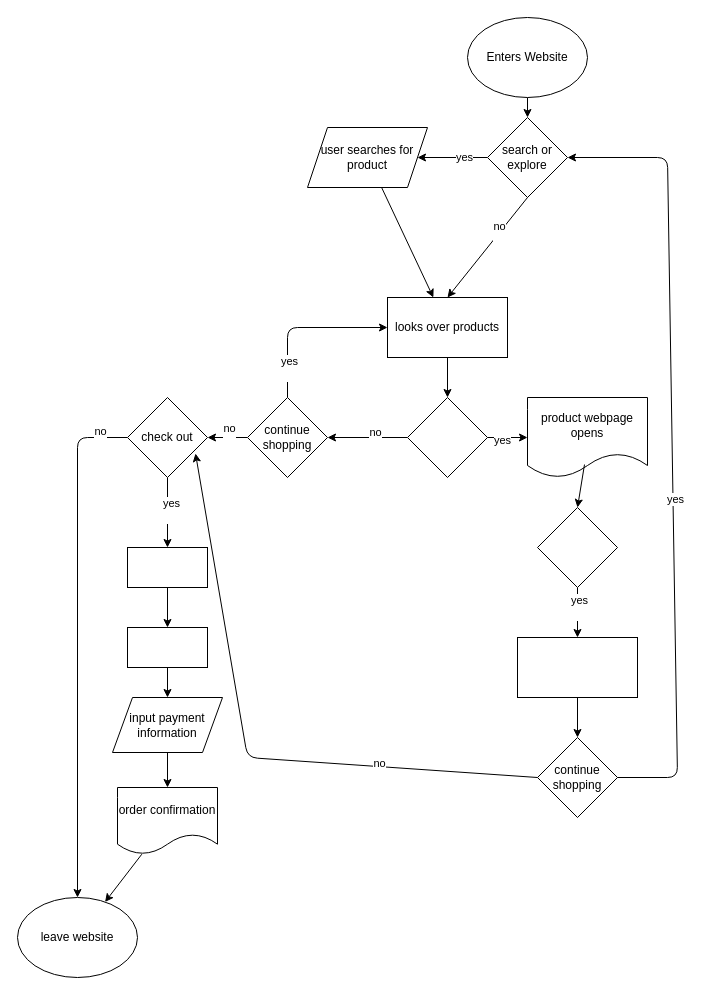
This 703x995 diagram has some shape labels left out. The shapes that lost their labels are listed below. From the top down, each one's centre as x and y in pixels, then its label:
At (447,437): "view specific product".
At (167,567): "view cart".
At (577,547): "add to cart".
At (167,647): "view payment".
At (577,667): "cart confirmation".
